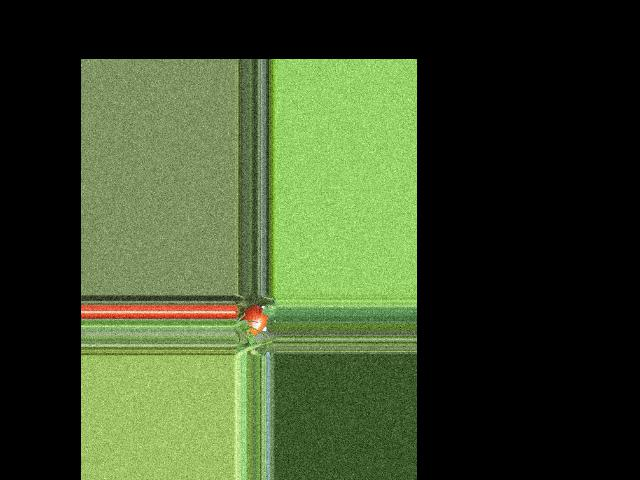tomato: (241, 304, 267, 335)
